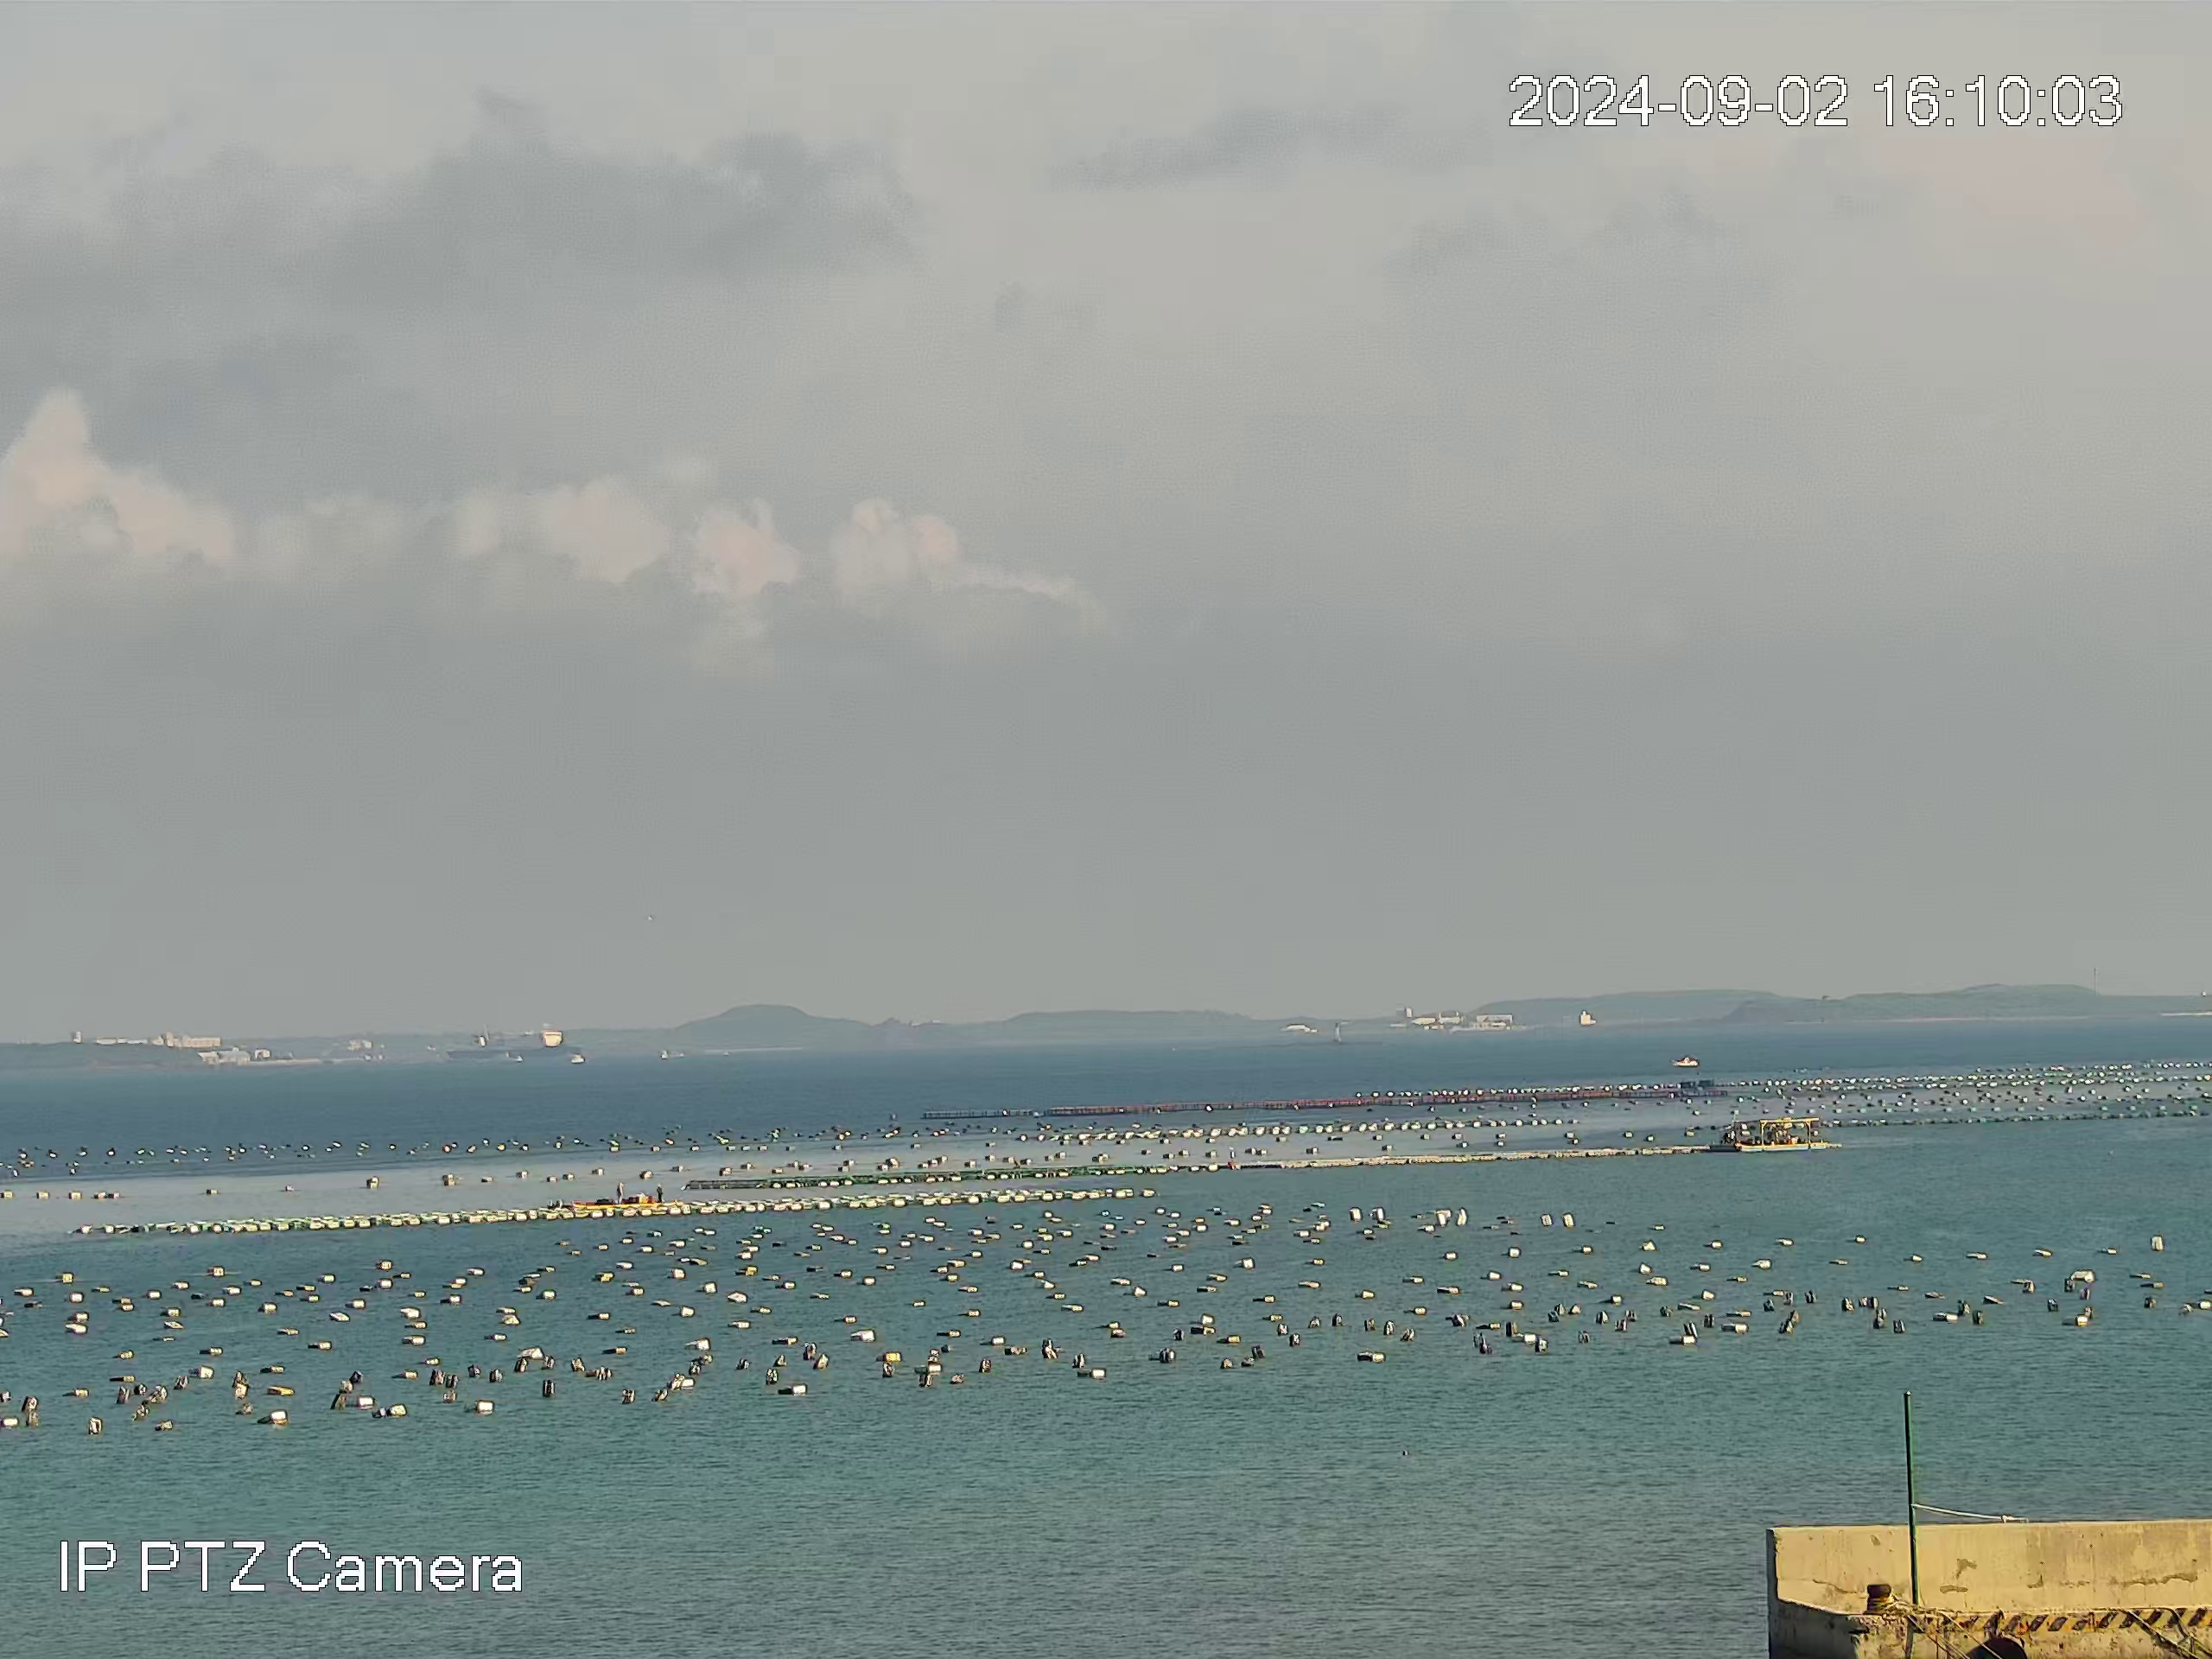boat: (444, 1028, 582, 1061), (1733, 1117, 1829, 1154), (570, 1182, 683, 1209), (1669, 1054, 1700, 1068)
